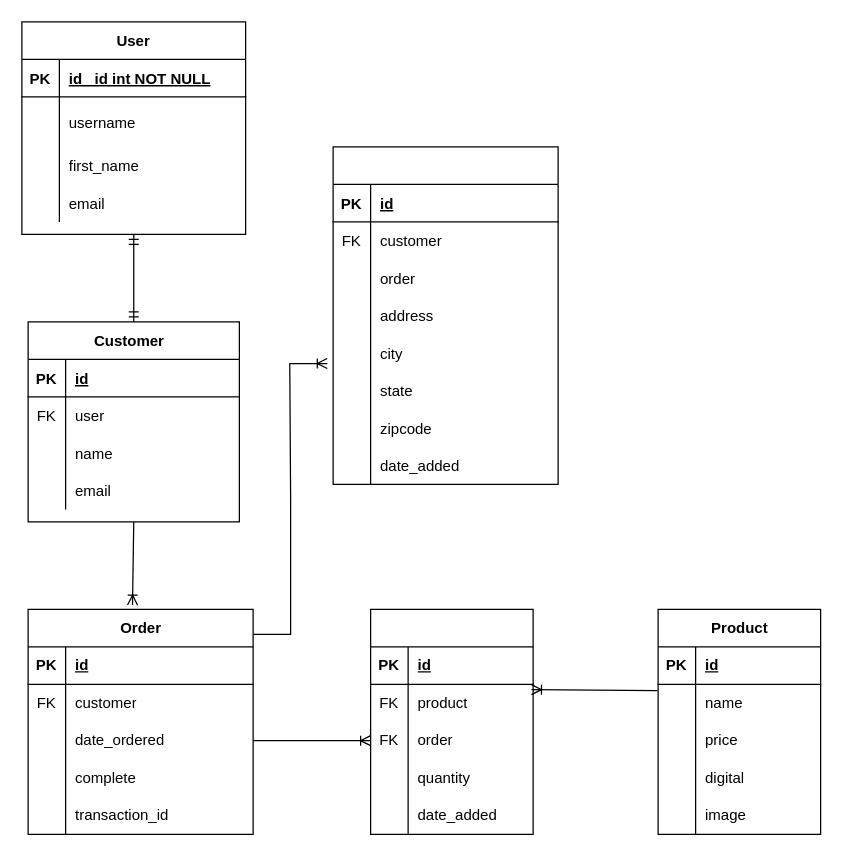
Image size: 843x856. Some labels were removed from this diagram. The shapes that lost their labels are listed below. From the top down, each one's box as (x1, y1, x2, y2) in pixels, then its label:
(332, 146, 558, 484): ShippingAddress
(369, 608, 533, 834): OrderItem
